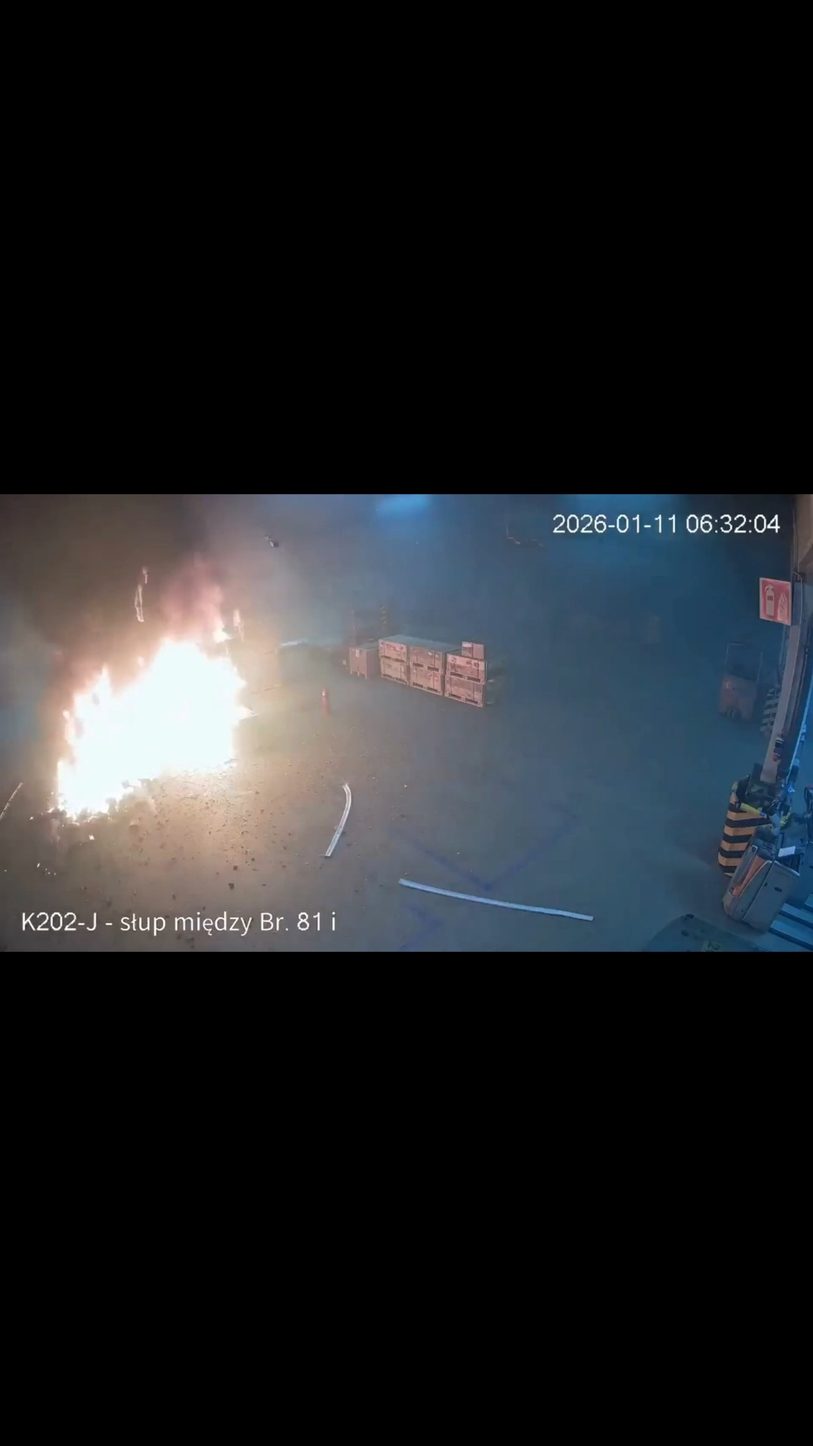fire: (53, 600, 256, 820)
smoke: (1, 496, 373, 680)
